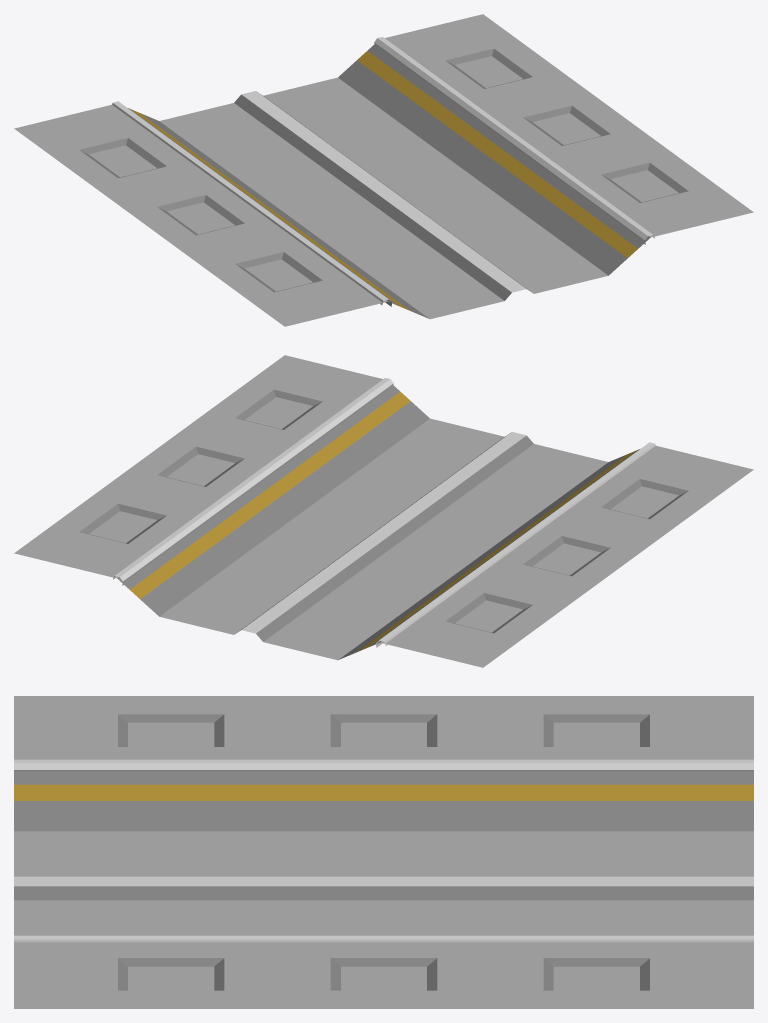
The model's file is Floor_2x2_Vs01.FBX.
3 renders of one model, top to bottom at view 1: azimuth 30°, elevation 25°; view 2: azimuth 150°, elevation 25°; view 3: azimuth 270°, elevation 25°, orthographic. The views are drawn at different scales.
Parts seen in each view (by area): view 1: Floor_2x2_Vs01; view 2: Floor_2x2_Vs01; view 3: Floor_2x2_Vs01.
Boxes of the visible parts, box(x1,y1,x2,y2) form: Floor_2x2_Vs01: box(14, 14, 753, 326); Floor_2x2_Vs01: box(14, 355, 753, 667); Floor_2x2_Vs01: box(14, 696, 753, 1008).
Bounding box in the file's own units: 200 × 12.2 × 200.
